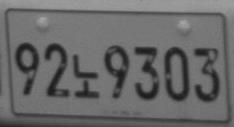0: (164, 45, 189, 101)
2: (43, 42, 70, 97)
3: (134, 45, 160, 101), (194, 47, 220, 103)
9: (103, 43, 130, 99), (14, 40, 39, 95)
노: (72, 53, 100, 98)
